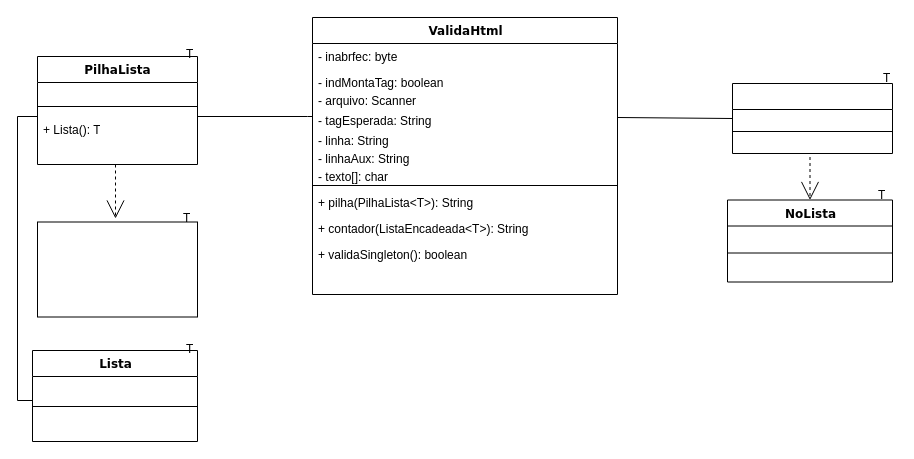
Image size: 914x459. Some labels were removed from this diagram. Here are the shapes that lost their labels. From the top down, the box of each, then its label:
(732, 82, 892, 154): ListaEncadeada
(36, 221, 198, 317): <<Interface>> Pilha
